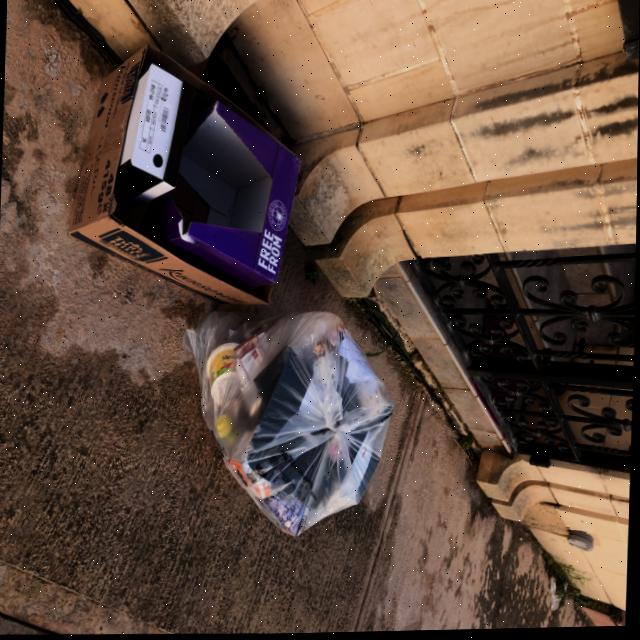Organic Waste -White Bag-: (182, 309, 390, 543)
Other: (85, 58, 299, 316)
